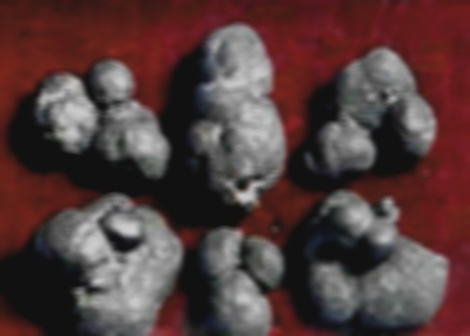halobolite: (285, 187, 463, 336), (18, 188, 183, 332), (182, 17, 286, 210), (35, 47, 172, 186), (299, 53, 432, 184), (184, 218, 273, 336)
